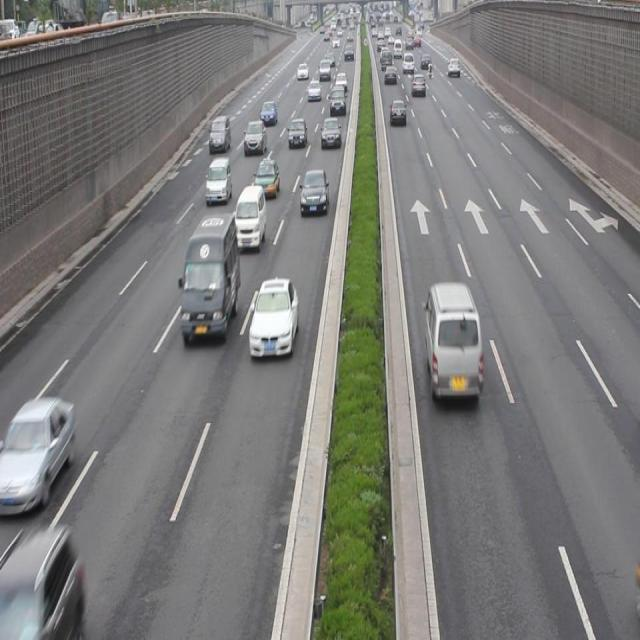car: (1, 525, 81, 640), (0, 393, 74, 517), (248, 277, 297, 358), (300, 168, 328, 215), (252, 157, 278, 197), (208, 113, 230, 154), (243, 119, 266, 155), (320, 115, 341, 150), (287, 118, 307, 150), (388, 97, 406, 127), (260, 100, 277, 125)
truck: (180, 212, 238, 340), (424, 280, 480, 402), (232, 184, 266, 250), (205, 155, 232, 206)
